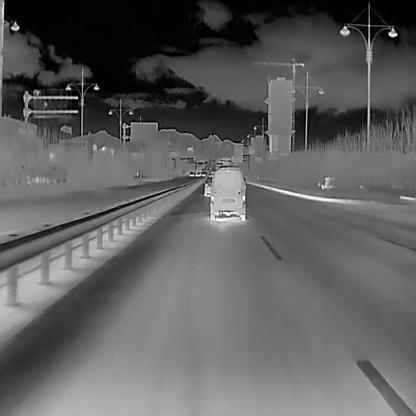car: (209, 165, 246, 222), (204, 180, 210, 196), (189, 170, 194, 176), (195, 172, 200, 177), (202, 172, 206, 177)
